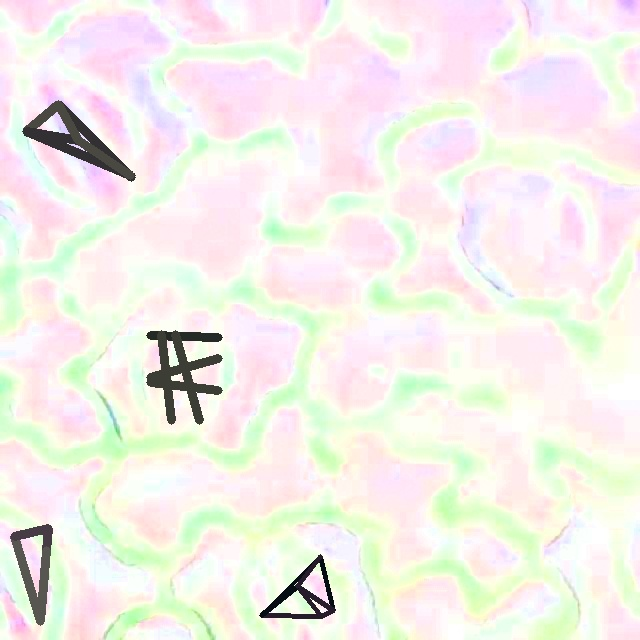close: (146, 330, 221, 423), (259, 554, 335, 618)
open: (22, 100, 135, 179), (10, 524, 50, 625)
